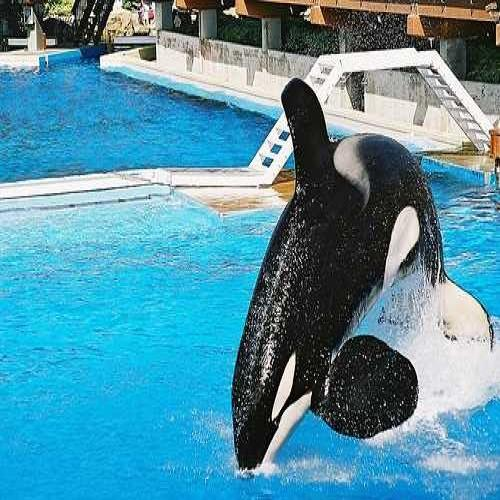killer_whale-endangered: (203, 59, 477, 484)
